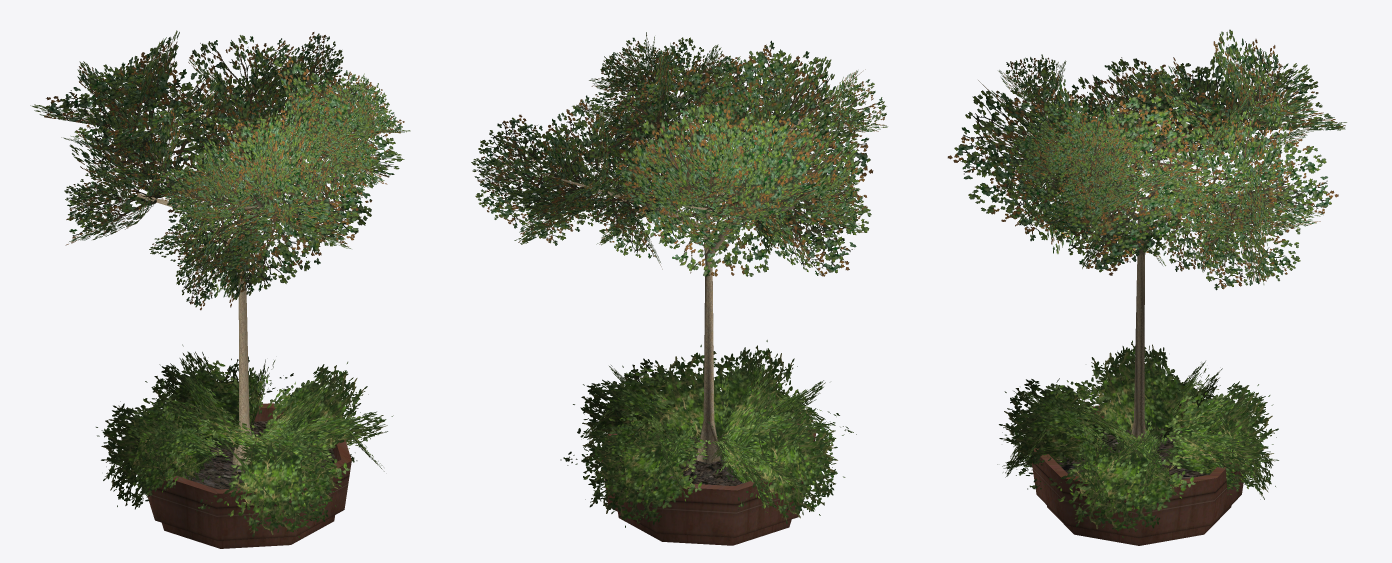
File: mun_all_imprv_planter_s01_l1.fbx
3 renders of one model, left to right at view 1: azimuth 30°, elevation 25°; view 2: azimuth 150°, elevation 25°; view 3: azimuth 270°, elevation 25°, orthographic.
Visible parts, largest first — view 1: mesh_node; view 2: mesh_node; view 3: mesh_node.
Boxes of the visible parts, x1,y1,x2,y2 form: mesh_node: [30, 30, 410, 548]; mesh_node: [471, 32, 887, 545]; mesh_node: [947, 29, 1346, 545].
Bounding box in the file's own units: 6.09 × 7.45 × 6.54.
